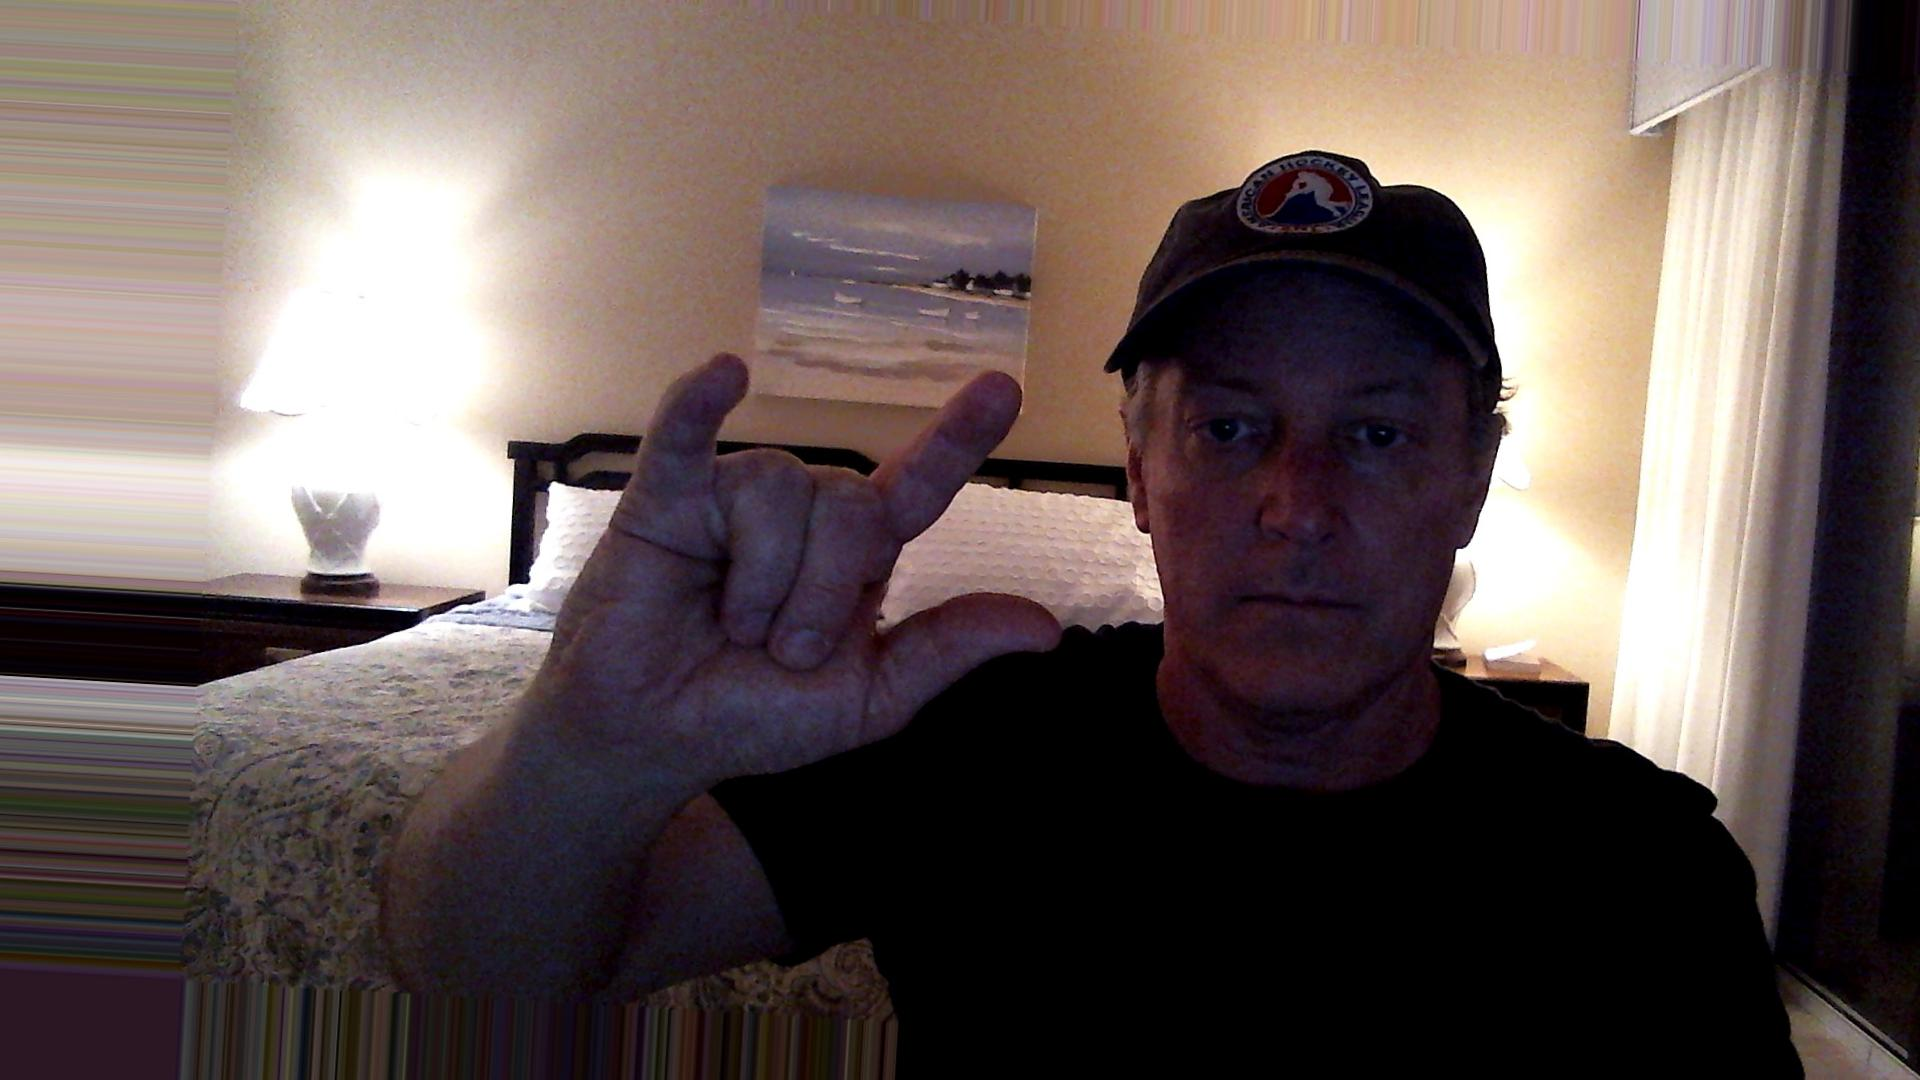I Love You: (535, 348, 1116, 789)
